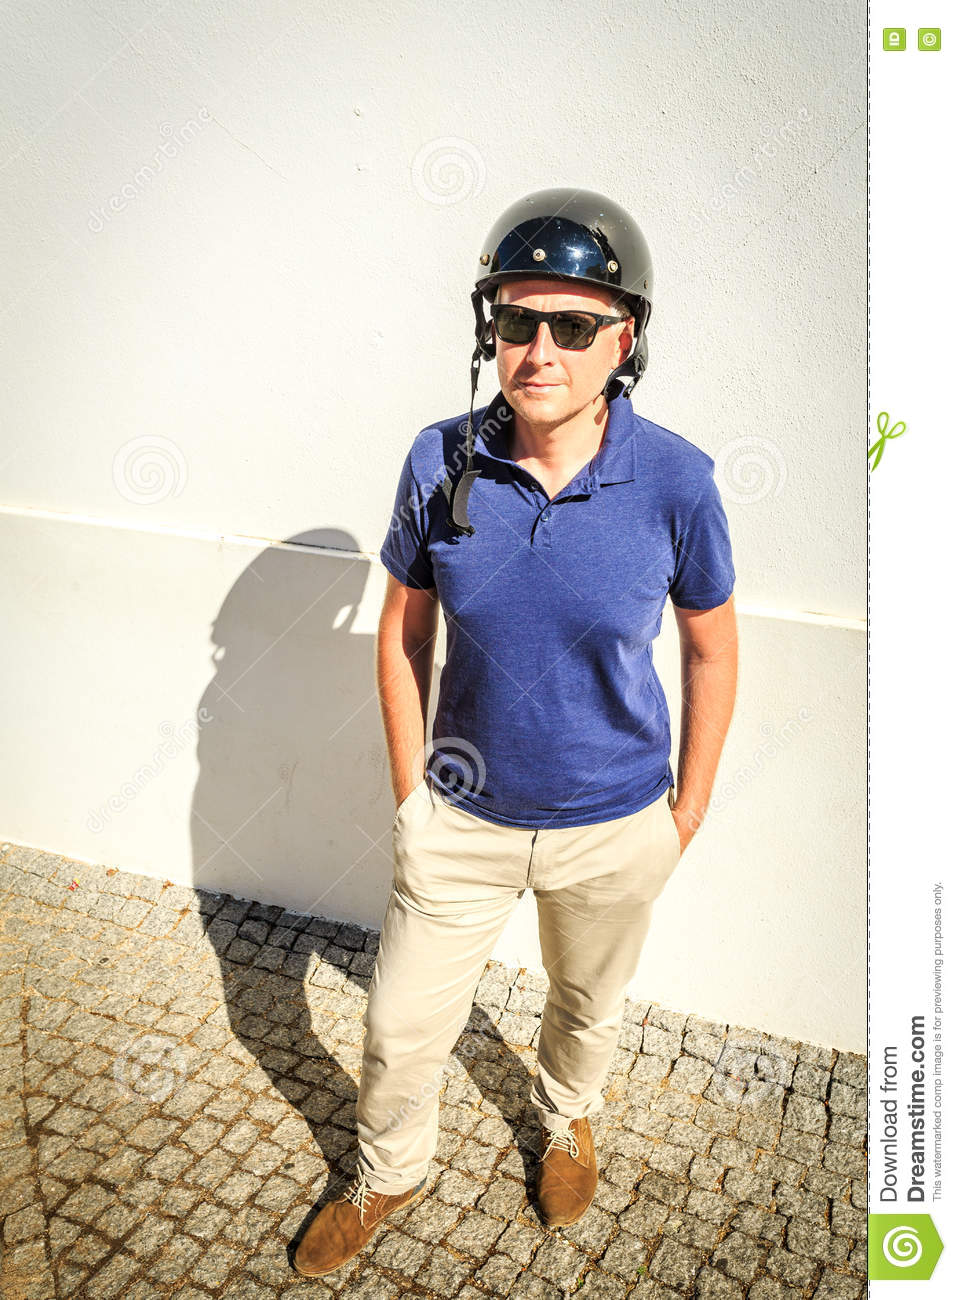helmet: (466, 173, 652, 309)
